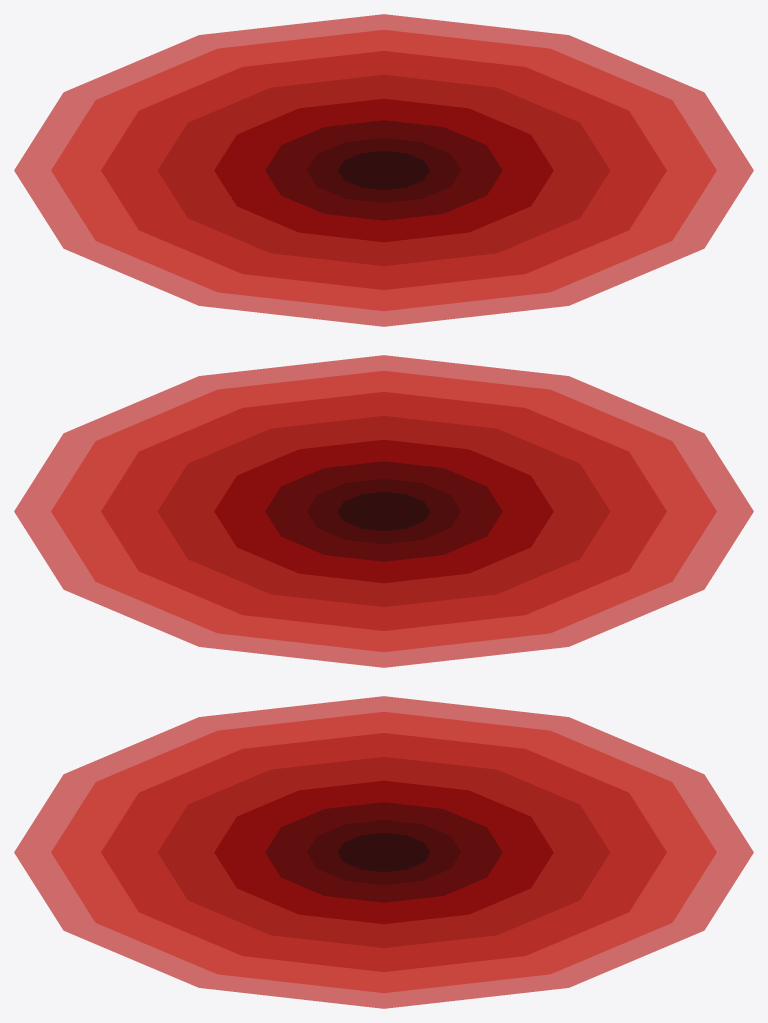
Rendered from portalRED.fbx.
The picture shows the model from 3 angles, top to bottom: view 1: azimuth 30°, elevation 25°; view 2: azimuth 150°, elevation 25°; view 3: azimuth 270°, elevation 25°; orthographic projection.
Parts seen in each view (by area): view 1: Portal.020; view 2: Portal.020; view 3: Portal.020.
Part boxes in pixels (left/top/right/bottom): Portal.020: left=14, top=14, right=753, bottom=326; Portal.020: left=14, top=355, right=753, bottom=667; Portal.020: left=14, top=696, right=753, bottom=1008.
Bounding box in the file's own units: 200 × 3.26e-05 × 200.
